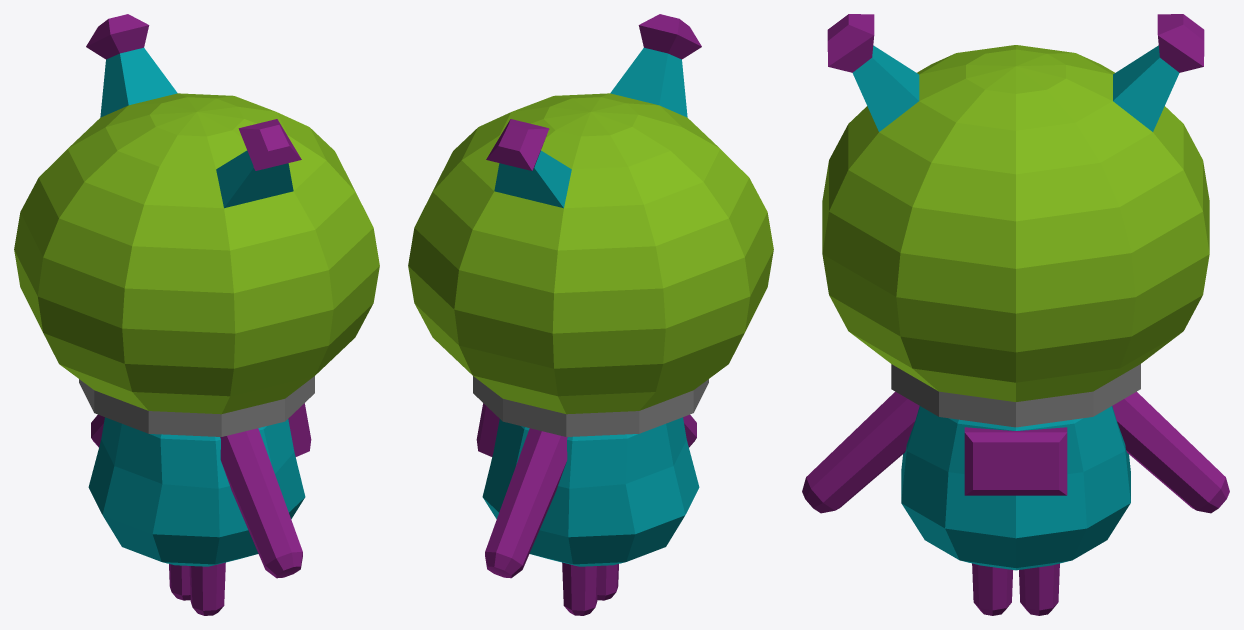
Rendered from spacefolk2_rough.obj.
3 renders of one model, left to right at view 1: azimuth 30°, elevation 25°; view 2: azimuth 150°, elevation 25°; view 3: azimuth 270°, elevation 25°, orthographic. The views are drawn at different scales.
Parts seen in each view (by area): view 1: group1 pSphere1, group1 pCylinder5, group1 pCylinder3, pCube1, group1 pCylinder4; view 2: group1 pSphere1, pCylinder1 group1, group1 pCylinder4, pCube1, group1 pCylinder3; view 3: group1 pSphere1, pCube1, group1 pCylinder5, pCylinder1 group1, group1 pCylinder3, group1 pCylinder4.
Part boxes in pixels (x1=…): group1 pSphere1: x1=14, y1=14, x2=379, y2=566; group1 pCylinder5: x1=220, y1=428, x2=302, y2=578; group1 pCylinder3: x1=189, y1=562, x2=225, y2=615; pCube1: x1=288, y1=403, x2=311, y2=456; group1 pCylinder4: x1=169, y1=564, x2=190, y2=600; group1 pSphere1: x1=408, y1=14, x2=773, y2=566; pCylinder1 group1: x1=485, y1=428, x2=567, y2=578; group1 pCylinder4: x1=562, y1=562, x2=598, y2=615; pCube1: x1=476, y1=403, x2=499, y2=456; group1 pCylinder3: x1=597, y1=564, x2=618, y2=600; group1 pSphere1: x1=822, y1=14, x2=1209, y2=570; pCube1: x1=964, y1=427, x2=1067, y2=495; group1 pCylinder5: x1=802, y1=391, x2=919, y2=513; pCylinder1 group1: x1=1112, y1=391, x2=1229, y2=513; group1 pCylinder3: x1=972, y1=563, x2=1013, y2=615; group1 pCylinder4: x1=1019, y1=563, x2=1059, y2=615.
Size of the model in its own units: 1.75 by 2.8 by 1.84.
